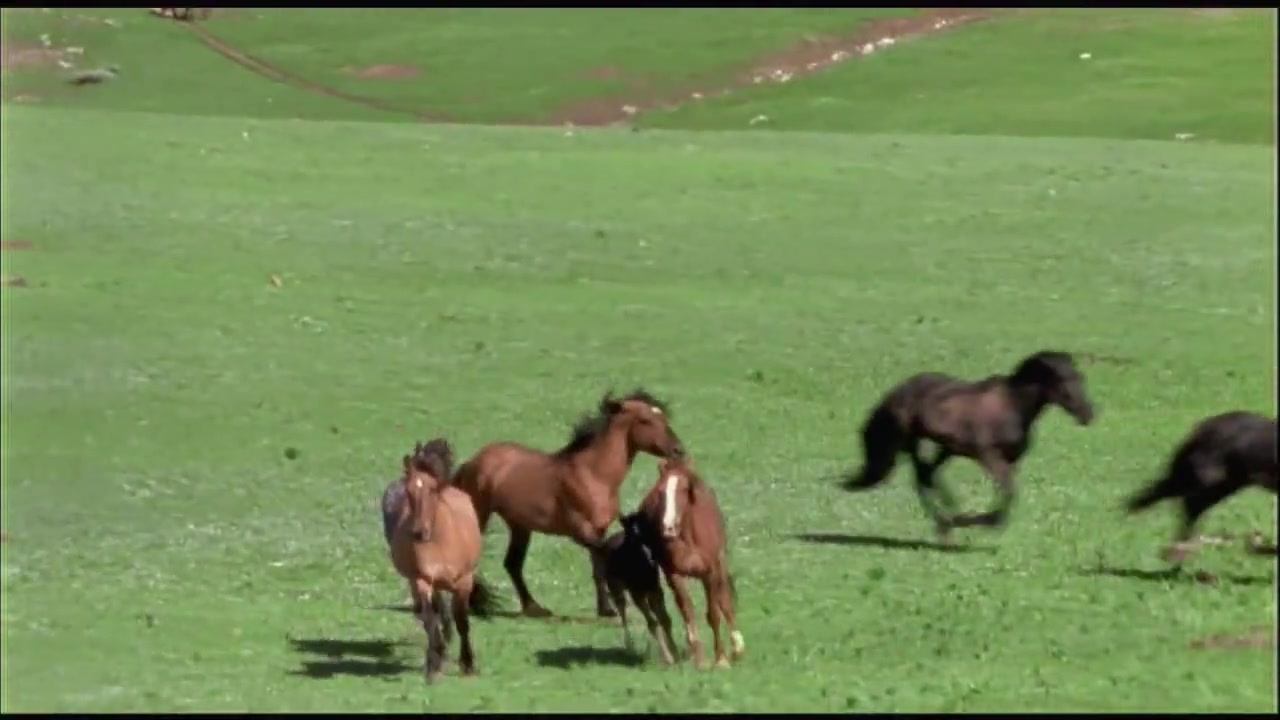horse: (389, 454, 486, 686)
